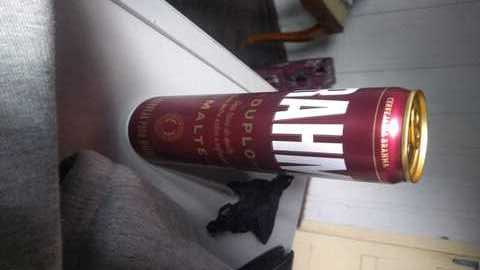duplo_malte: (124, 88, 432, 188)
